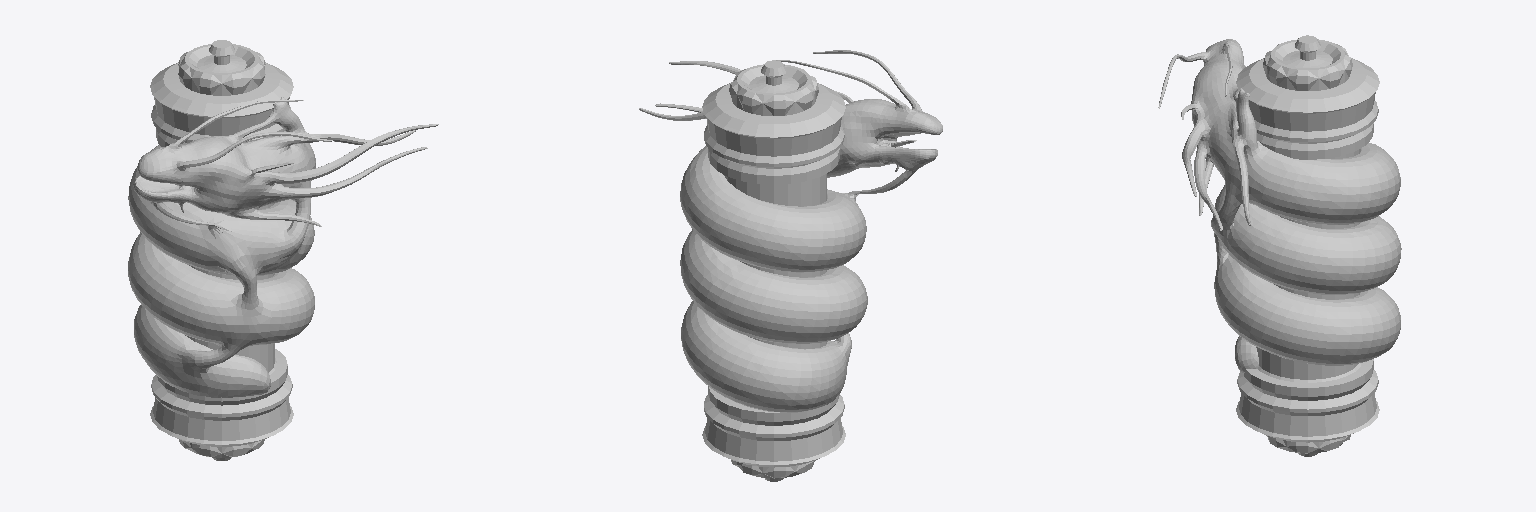
The model's file is dragon.obj.
3 views of the same model, side by side, from view 1: azimuth 30°, elevation 25°; view 2: azimuth 150°, elevation 25°; view 3: azimuth 270°, elevation 25° (orthographic).
Visible parts, largest first — view 1: Stoyka_メッシュ.001; view 2: Stoyka_メッシュ.001; view 3: Stoyka_メッシュ.001.
Boxes of the visible parts, box(x1,y1,x2,y2) form: Stoyka_メッシュ.001: box(128, 40, 438, 460); Stoyka_メッシュ.001: box(639, 50, 942, 481); Stoyka_メッシュ.001: box(1158, 35, 1401, 456).
Bounding box in the file's own units: 120 × 165 × 87.75.